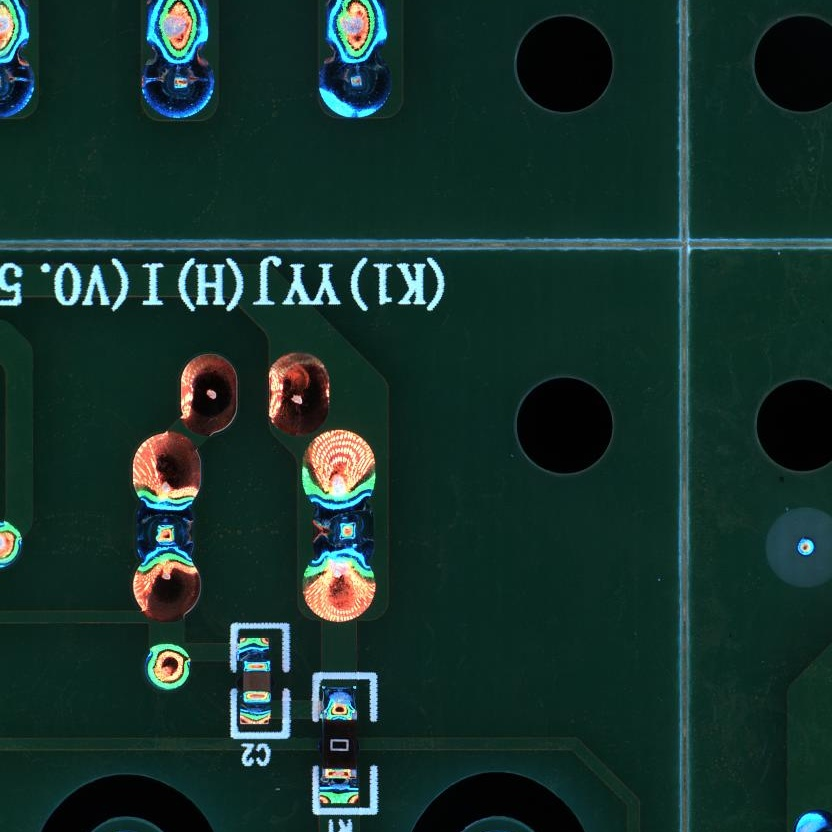spot: (317, 50, 393, 120), (140, 54, 216, 121), (128, 496, 199, 566), (307, 500, 379, 568)
